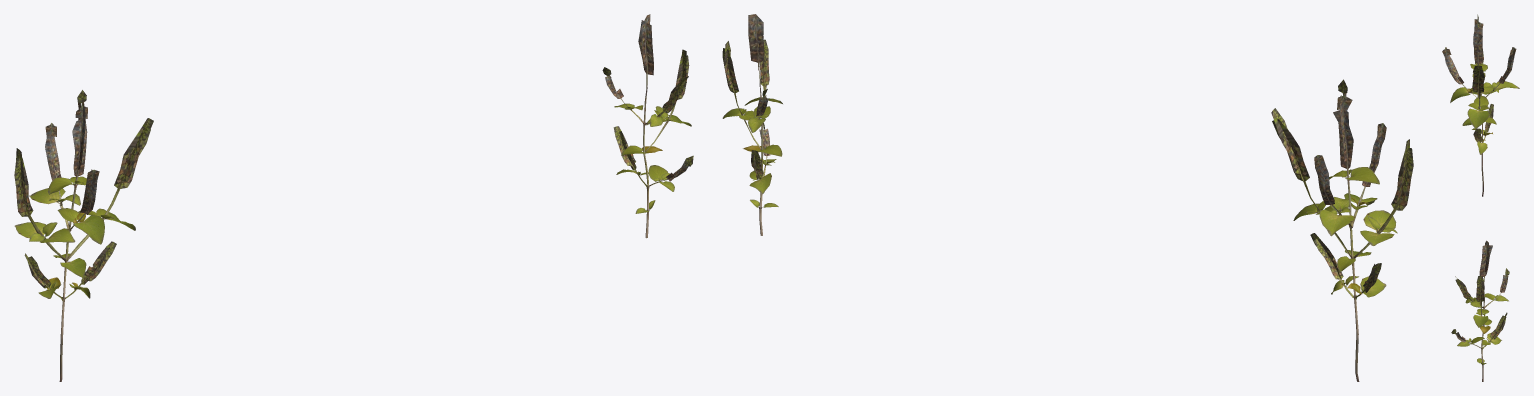
The model's file is shrub.glb.
3 views of the same model, side by side, from view 1: azimuth 30°, elevation 25°; view 2: azimuth 150°, elevation 25°; view 3: azimuth 270°, elevation 25° (orthographic). The views are drawn at different scales.
Parts seen in each view (by area): view 1: shrub_03_a, shrub_03_c; view 2: shrub_03_a, shrub_03_c; view 3: shrub_03_a, shrub_03_c.
Boxes of the visible parts, left/top/right/bottom form: shrub_03_a: left=14, top=90, right=153, bottom=381; shrub_03_c: left=602, top=14, right=693, bottom=238; shrub_03_a: left=1271, top=79, right=1413, bottom=381; shrub_03_c: left=722, top=14, right=782, bottom=235; shrub_03_a: left=1442, top=14, right=1519, bottom=196; shrub_03_c: left=1451, top=240, right=1509, bottom=381.
Size of the model in its own units: 0.9854 by 0.4028 by 0.1512.
Materials: 1 (1 with a texture image).
